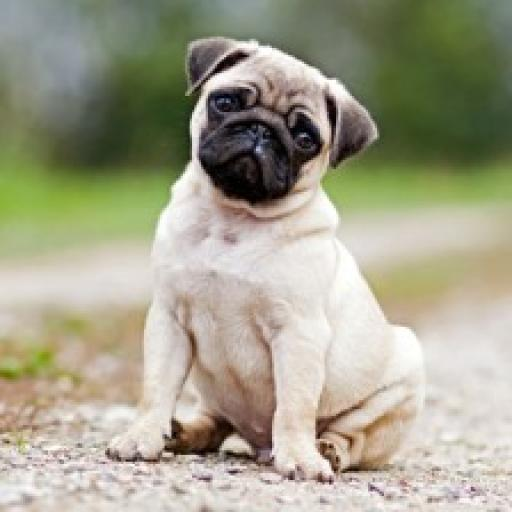dog: (102, 28, 436, 482)
